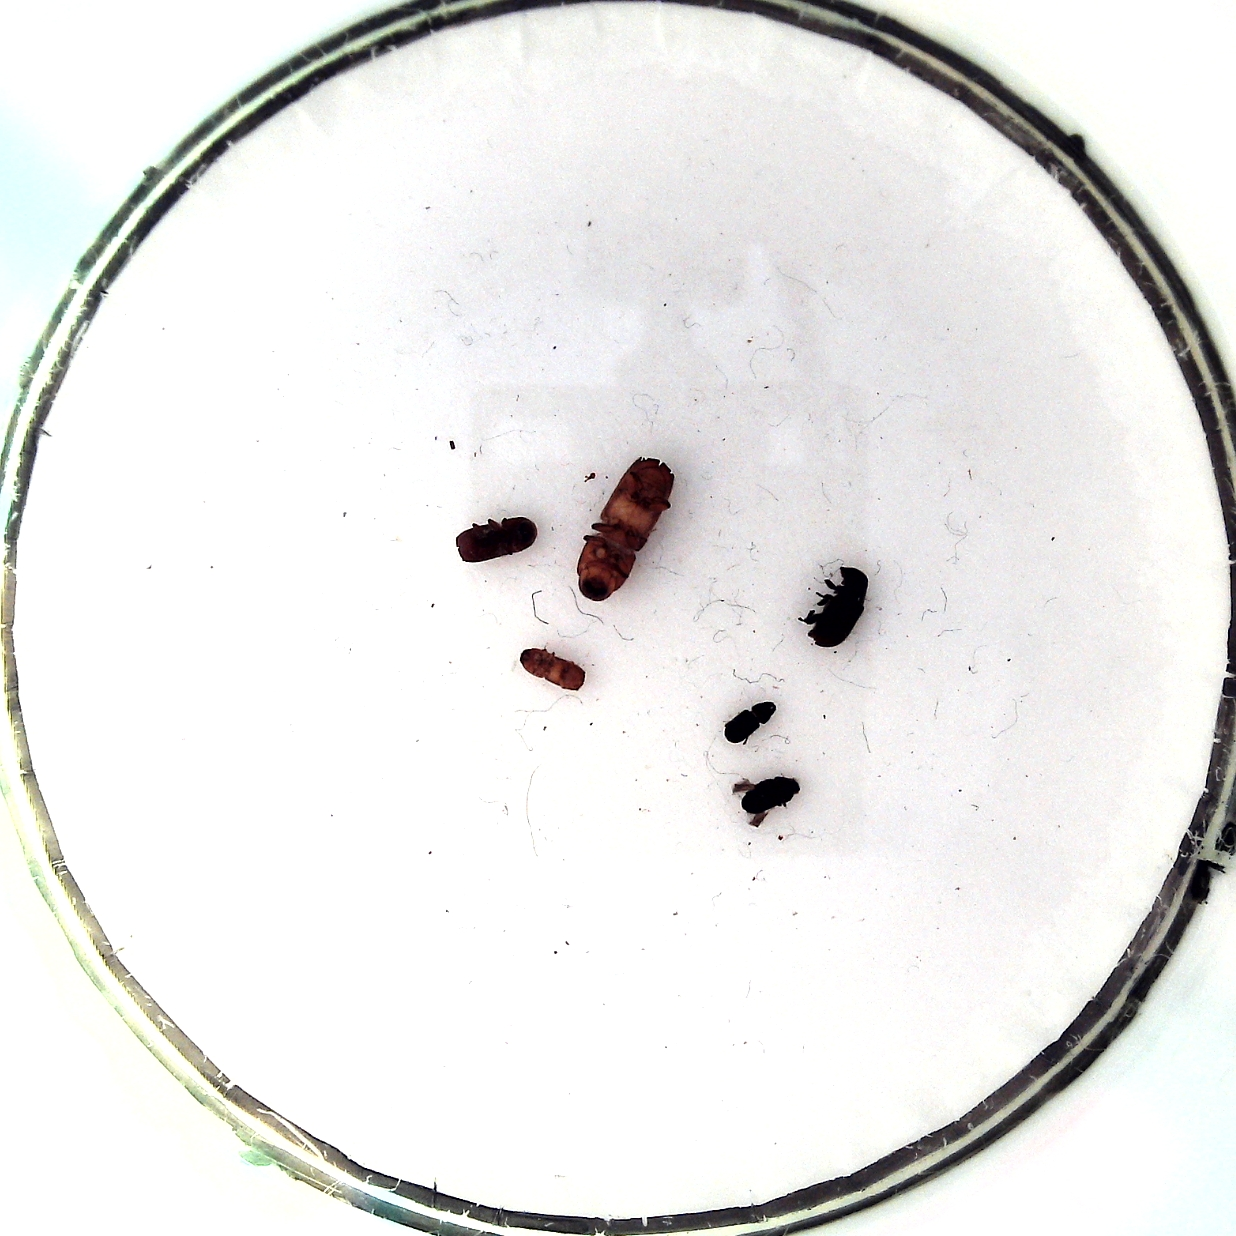Leconte: (576, 455, 675, 602)
acuminatus: (741, 776, 801, 814), (723, 702, 776, 743)
armandi: (806, 567, 869, 646)
coleoptera: (521, 649, 587, 690)
linnaeus: (455, 516, 538, 563)
